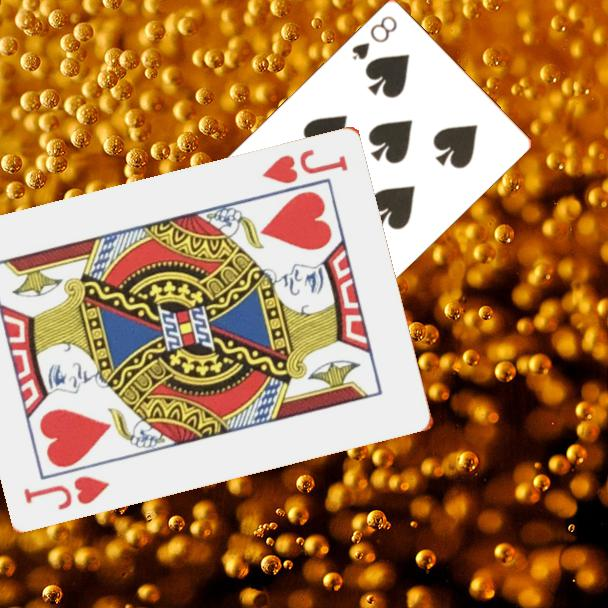h11: (20, 471, 114, 513), (258, 144, 351, 186)
s08: (349, 12, 400, 63)
